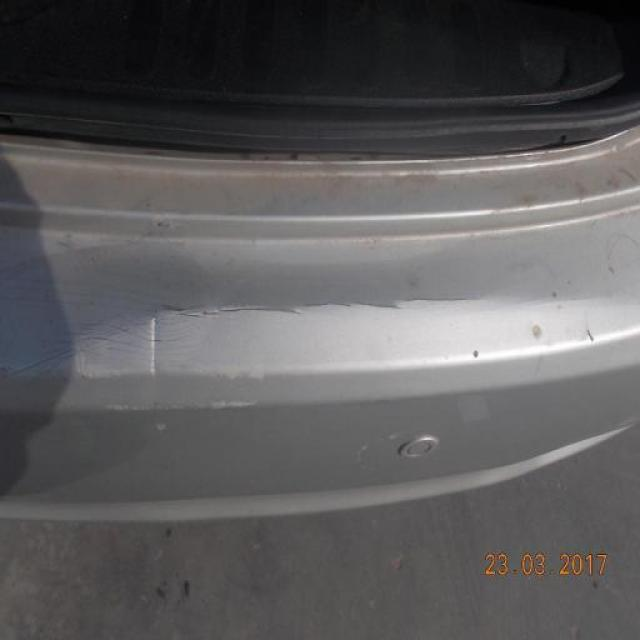dent: (0, 243, 213, 390)
scratch: (34, 295, 504, 379)
